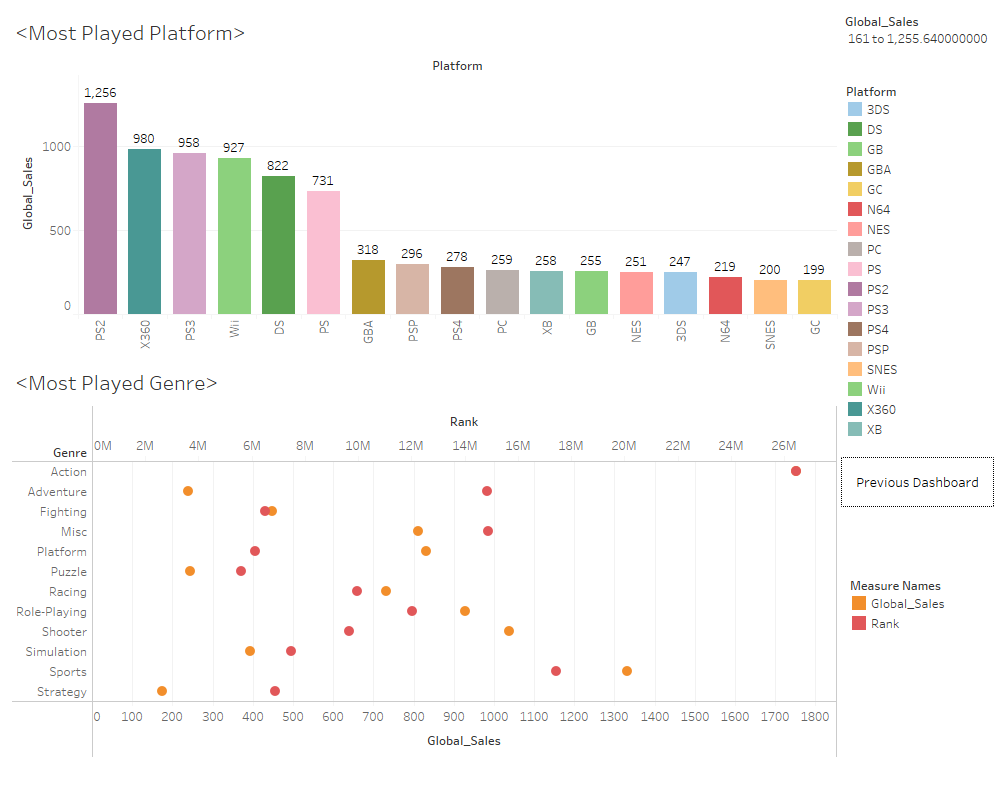

Layout of this report page (visuals, bound fields, positions):
{"tool":"tableau","page":{"name":"Dashboard 2","canvas":[1000,800],"ordinal":1},"visuals":[{"type":"worksheet","box":[0,0,1000,800]},{"type":"worksheet","param":"horz","box":[8,8,984,784]},{"type":"worksheet","box":[8,8,833,784]},{"type":"worksheet","title":"Sheet 1","mark":"Automatic","rows":["Global_Sales"],"cols":["Platform"],"box":[8,8,833,350]},{"type":"worksheet","param":"vert","box":[841,8,151,784]},{"type":"worksheet","title":"Sheet 1","mark":"Automatic","rows":["Global_Sales"],"cols":["Platform"],"param":"[federated.1a86ma41t2lm4e119kwna1d6r5dr].[sum:Global_Sales:qk]","box":[841,8,151,69]},{"type":"worksheet","title":"Sheet 1","mark":"Automatic","rows":["Global_Sales"],"cols":["Platform"],"param":"[federated.1a86ma41t2lm4e119kwna1d6r5dr].[none:Platform:nk]","box":[841,77,151,366]},{"type":"worksheet","title":"Sheet 4","mark":"Automatic","rows":["Genre"],"cols":["Global_Sales","Rank"],"box":[8,358,833,434]},{"type":"worksheet","box":[841,457,153,50]},{"type":"worksheet","title":"Sheet 4","mark":"Automatic","rows":["Genre"],"cols":["Global_Sales","Rank"],"param":"[federated.1a86ma41t2lm4e119kwna1d6r5dr].[:Measure Names]","box":[849,575,140,58]}]}

Visuals, with their boxes in screenshot pixels (x1, y1, x2, y2), scaled from the page's 1000x800 canvas onto the 1000x800 screenshot:
worksheet: pyautogui.locateOnScreen(0, 0, 999, 799)
worksheet: pyautogui.locateOnScreen(8, 8, 992, 792)
worksheet: pyautogui.locateOnScreen(8, 8, 841, 792)
"Sheet 1" worksheet: pyautogui.locateOnScreen(8, 8, 841, 358)
worksheet: pyautogui.locateOnScreen(841, 8, 992, 792)
"Sheet 1" worksheet: pyautogui.locateOnScreen(841, 8, 992, 77)
"Sheet 1" worksheet: pyautogui.locateOnScreen(841, 77, 992, 443)
"Sheet 4" worksheet: pyautogui.locateOnScreen(8, 358, 841, 792)
worksheet: pyautogui.locateOnScreen(841, 457, 994, 507)
"Sheet 4" worksheet: pyautogui.locateOnScreen(849, 575, 989, 633)
